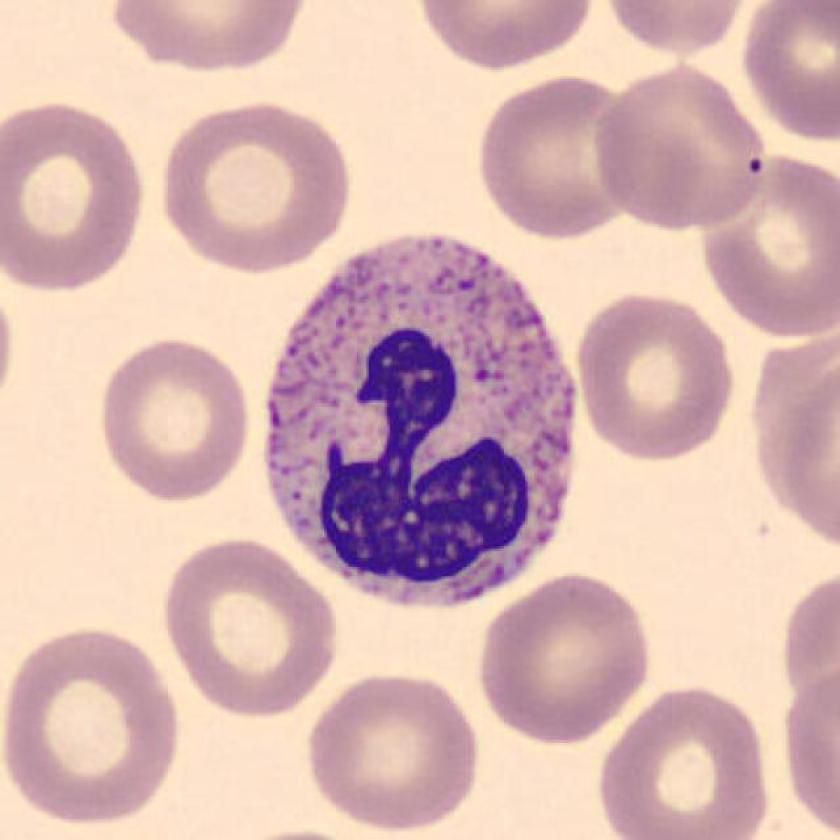neutrophil: (266, 236, 573, 607)
